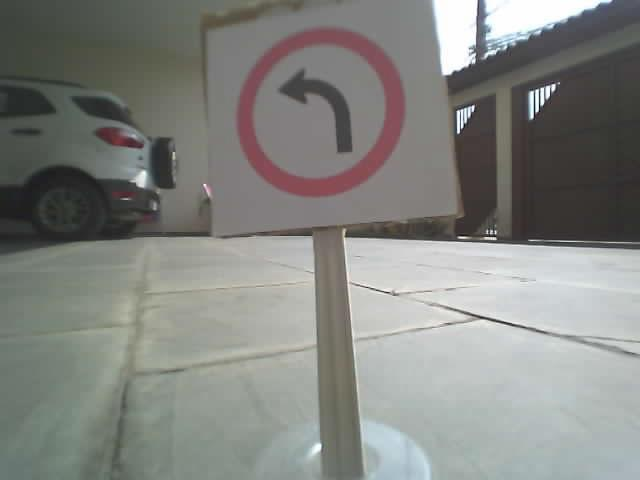R-25a_esquerda: (235, 26, 405, 196)
